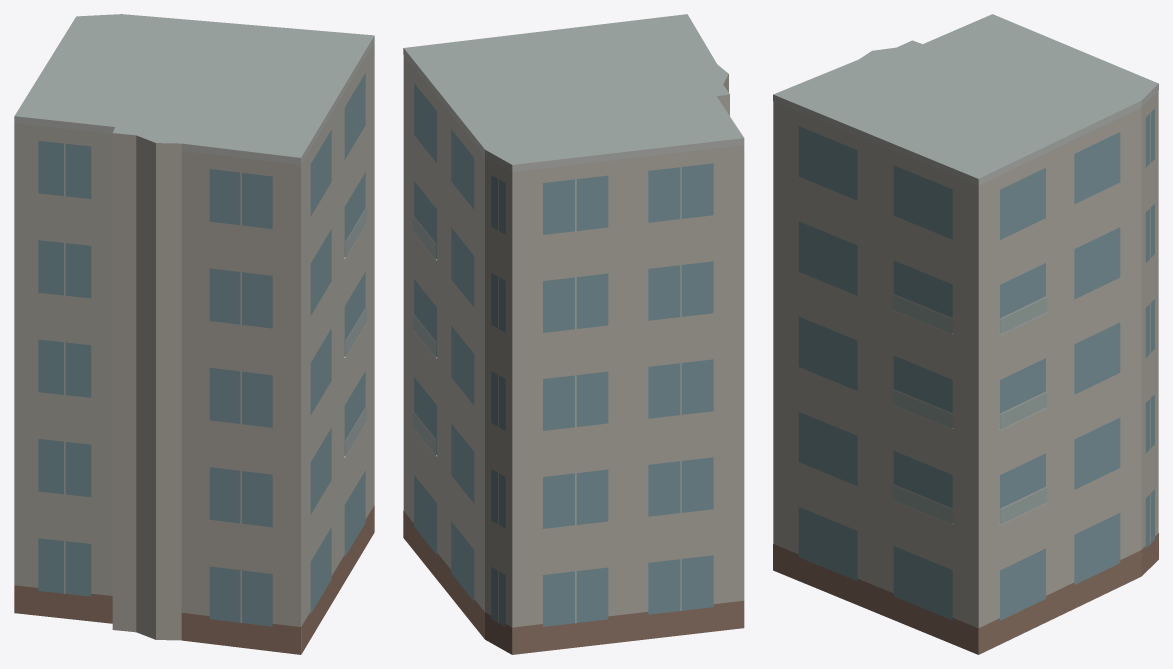
File: survey-upis-32464676.glb
3 views of the same model, side by side, from view 1: azimuth 30°, elevation 25°; view 2: azimuth 150°, elevation 25°; view 3: azimuth 270°, elevation 25° (orthographic). The views are drawn at different scales.
Visible parts, largest first — view 1: survey-upis-32464676.tmp; view 2: survey-upis-32464676.tmp; view 3: survey-upis-32464676.tmp.
Boxes of the visible parts, x1,y1,x2,y2 form: survey-upis-32464676.tmp: [14, 14, 374, 654]; survey-upis-32464676.tmp: [403, 14, 744, 654]; survey-upis-32464676.tmp: [773, 14, 1158, 654].
Bounding box in the file's own units: 12.64 × 17 × 12.49.
